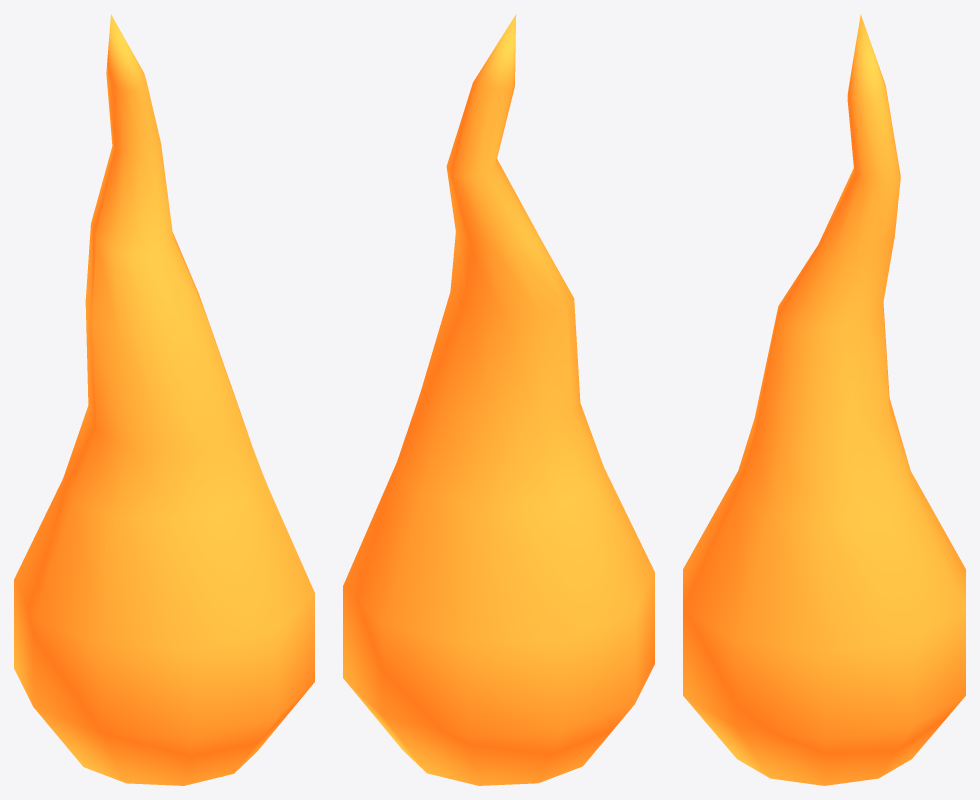
The model's file is Flame.fbx.
3 views of the same model, side by side, from view 1: azimuth 30°, elevation 25°; view 2: azimuth 150°, elevation 25°; view 3: azimuth 270°, elevation 25° (orthographic). The views are drawn at different scales.
Visible parts, largest first — view 1: Sphere; view 2: Sphere; view 3: Sphere.
Part boxes in pixels (bbox=[...]): Sphere: bbox=[14, 14, 314, 785]; Sphere: bbox=[343, 14, 654, 785]; Sphere: bbox=[683, 14, 965, 785].
Bounding box in the file's own units: 4.59 × 12.65 × 4.36.
